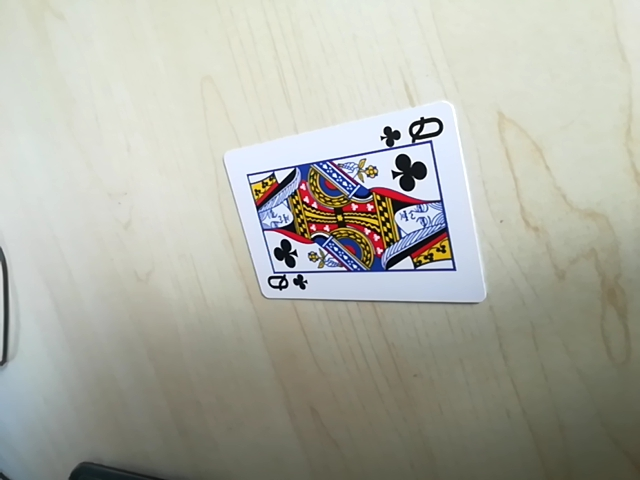mh q: (381, 113, 450, 149), (255, 271, 305, 297)
